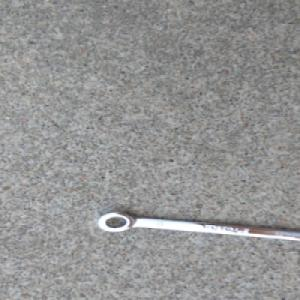Wrench: (98, 210, 300, 245)
